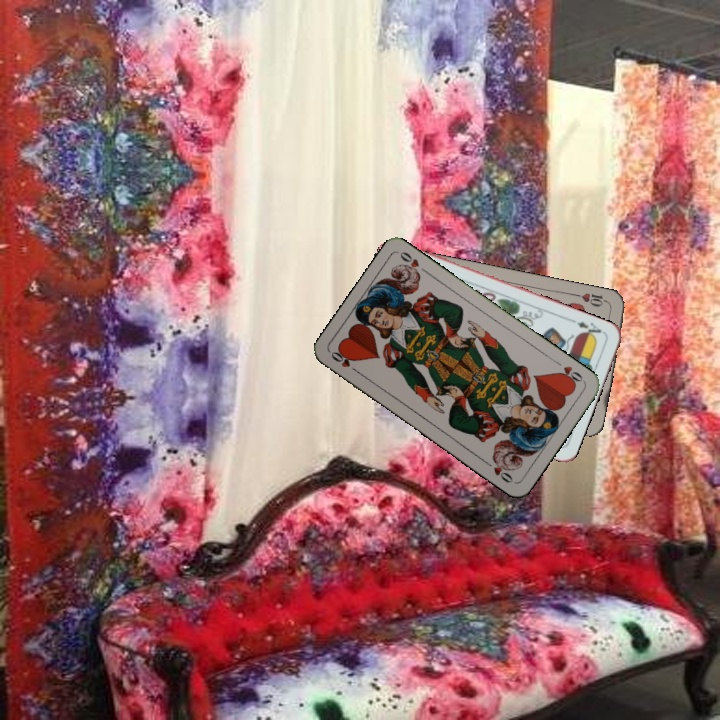EA: (568, 316, 607, 341)
H10: (571, 289, 612, 309)
HO: (551, 357, 586, 388), (327, 346, 362, 376)
